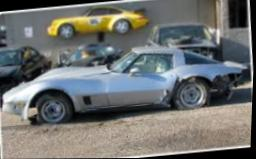Door: (139, 82, 175, 108)
Fender: (177, 67, 250, 99)
